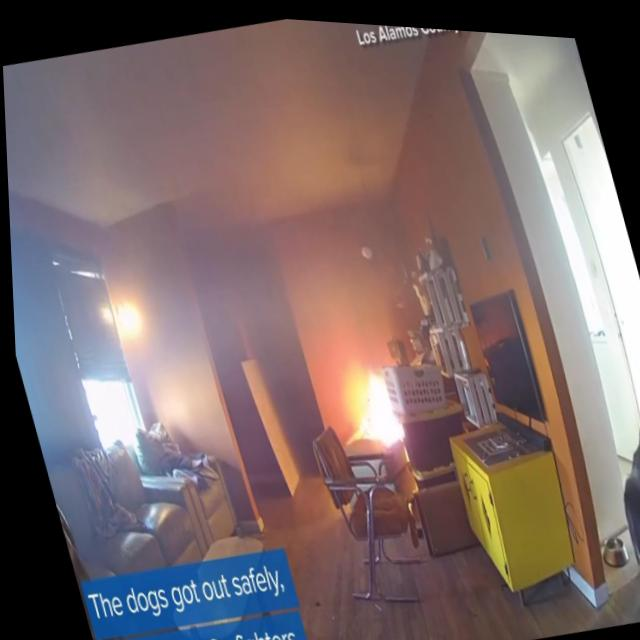fire: (337, 357, 407, 445)
